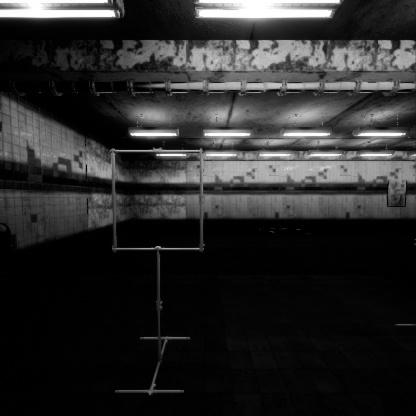gate: (111, 163, 211, 266)
